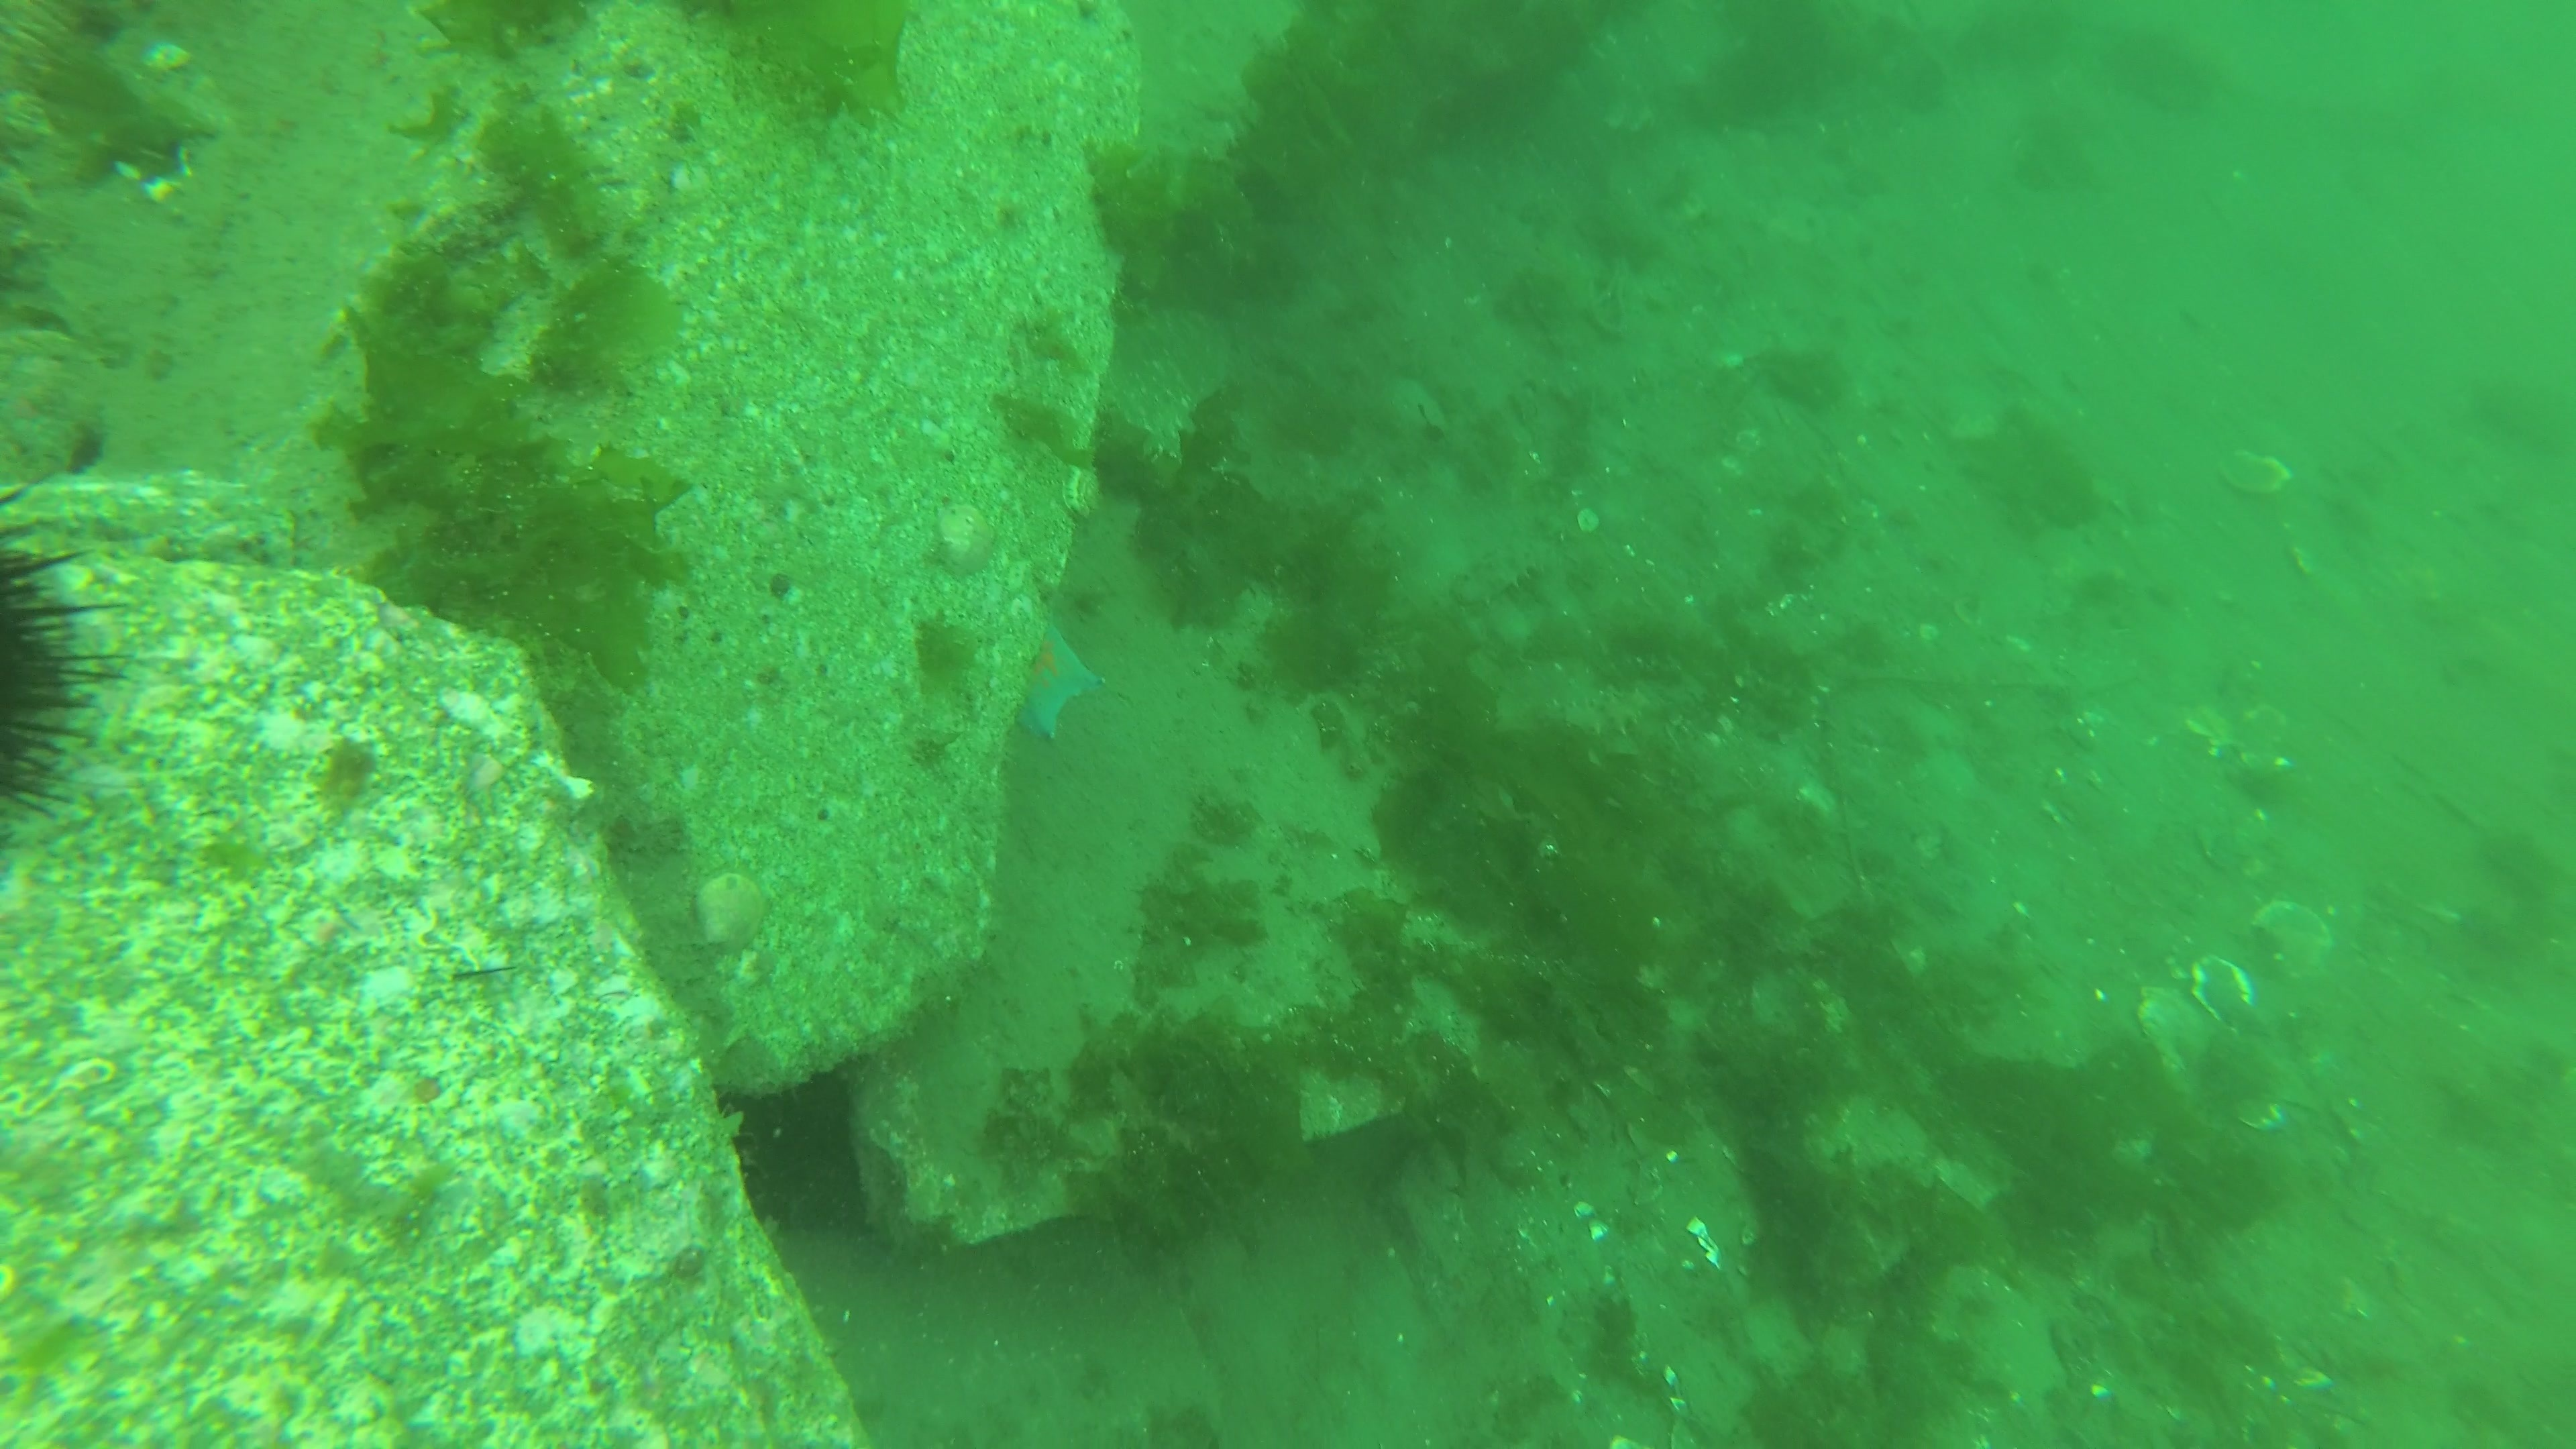echinus: (4, 513, 126, 833)
holothurian: (1442, 533, 1575, 612), (1557, 678, 1674, 740)
starfish: (1012, 609, 1109, 748)
